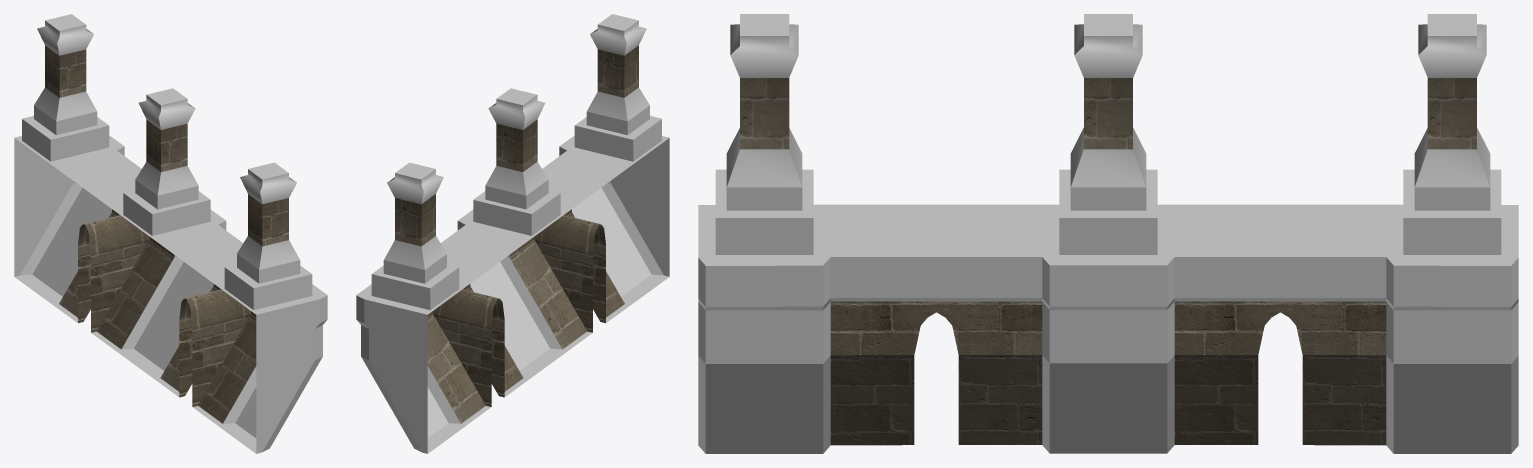
The model's file is SM_Tower_BuildingDetail_01.FBX.
The picture shows the model from 3 angles, left to right: view 1: azimuth 30°, elevation 25°; view 2: azimuth 150°, elevation 25°; view 3: azimuth 270°, elevation 25°; orthographic projection. The views are drawn at different scales.
Parts seen in each view (by area): view 1: SM_Tower_BuildingDetail_01; view 2: SM_Tower_BuildingDetail_01; view 3: SM_Tower_BuildingDetail_01.
Part boxes in pixels (x1,y1,x2,y2): SM_Tower_BuildingDetail_01: (14,14,327,453); SM_Tower_BuildingDetail_01: (356,14,669,453); SM_Tower_BuildingDetail_01: (698,14,1518,453).
Size of what is drawn, in the model's own units: 161 by 916 by 545.
